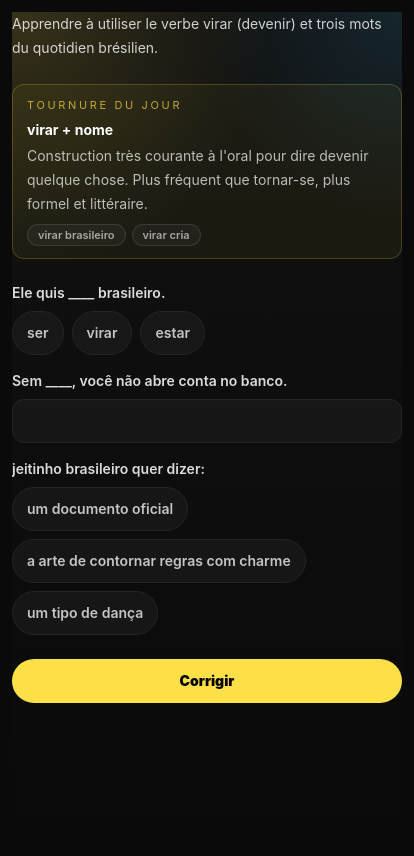
StudySheetPanel — Camarada Quer CPF › modifier une réponse après correction efface les couleurs (obsolètes) jusqu'au prochain « Corrigir »
Expected: the text "Apprendre à utiliser le verbe virar" is shown, [12, 15, 382, 56]
Click the button "virar". click: (102,333)
box: [72, 311, 132, 355]
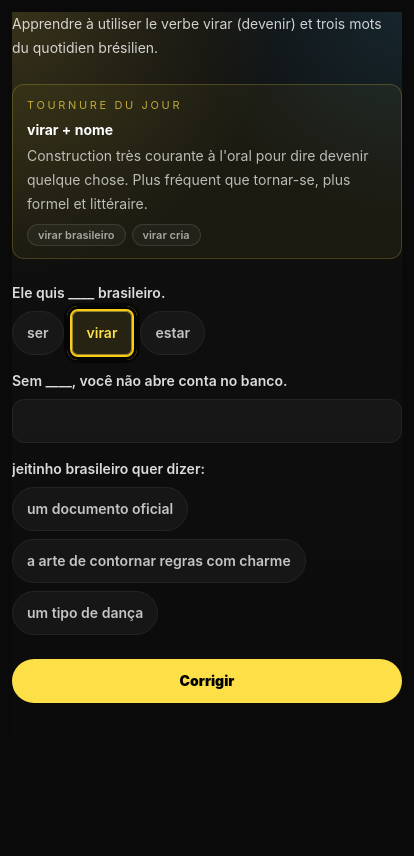
Click the button "Corrigir". click: (207,681)
box: [12, 659, 402, 703]
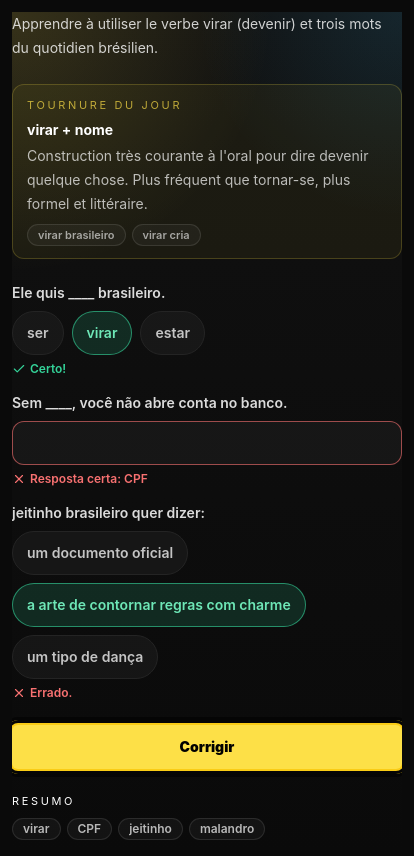
Expected: the text "Certo!" is shown, [12, 361, 66, 376]
Click the button "ser". click: (38,333)
box: [12, 311, 64, 355]
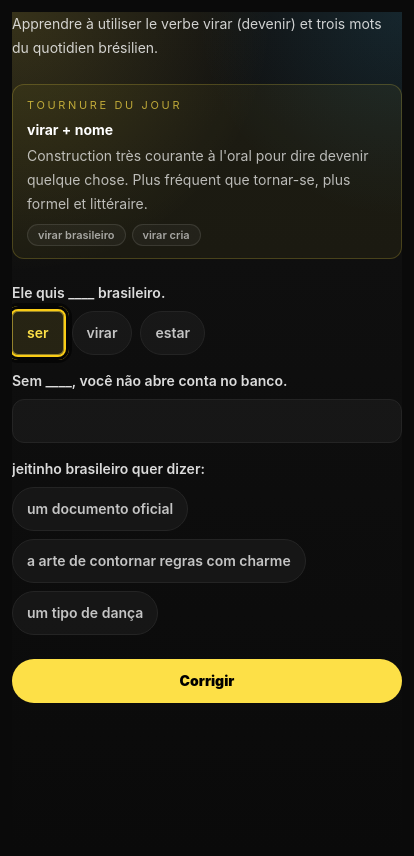
Expected: the text "Certo!" is gone
Expected: the text "Errado." is gone
Expected: the heading "Resumo" is gone
Click the button "Corrigir". click: (207,681)
box: [12, 659, 402, 703]
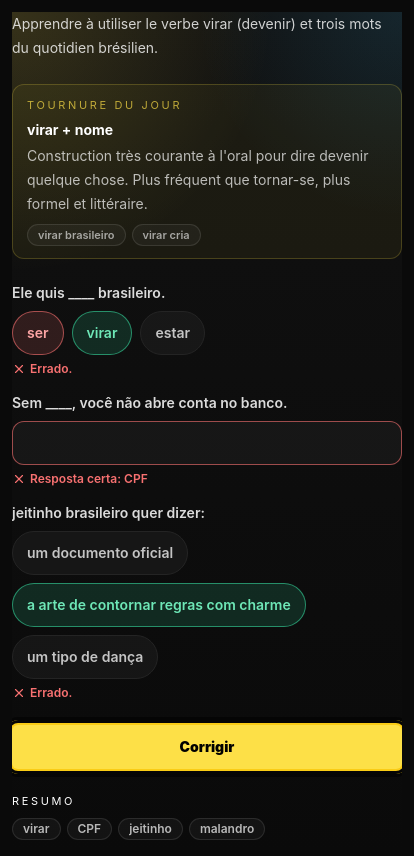
Expected: the text "Errado." below "Ele quis ____ brasileiro." is shown, [30, 361, 72, 376]
